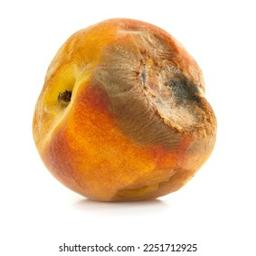Peach Rotten: (24, 18, 222, 197)
